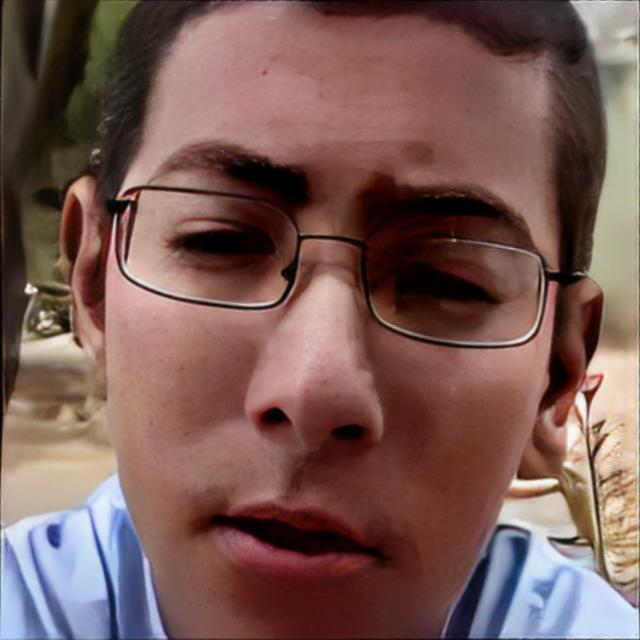sad: (102, 1, 557, 640)
